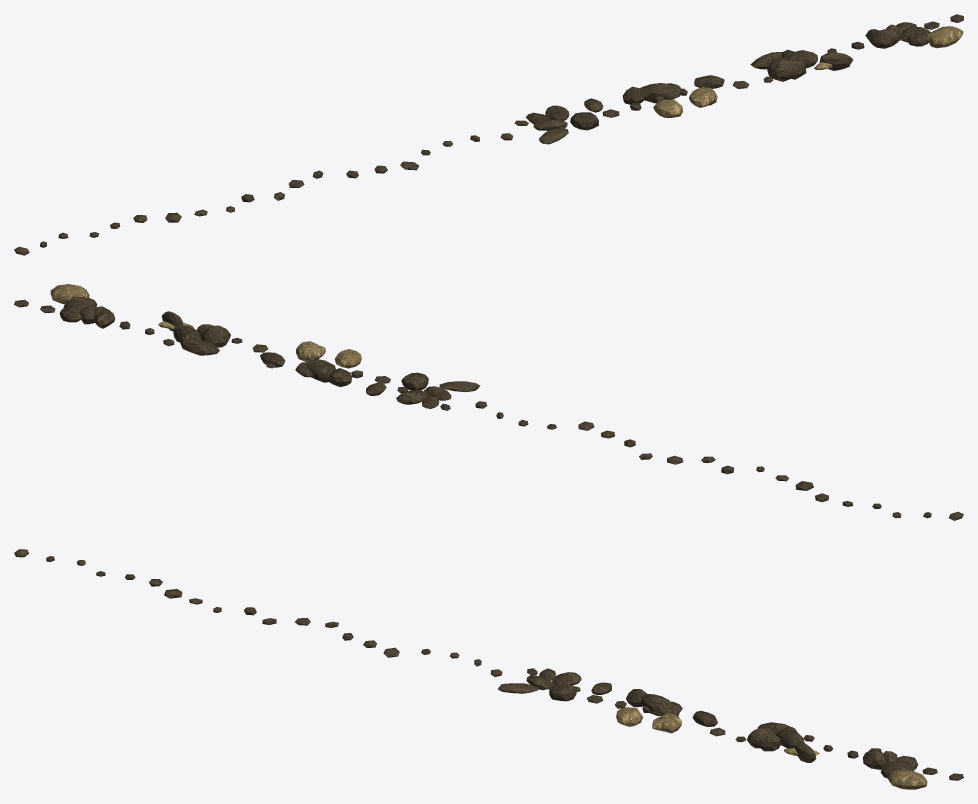
Rendered from south-west-shore.glb.
3 views of the same model, one above another, from view 1: azimuth 30°, elevation 25°; view 2: azimuth 150°, elevation 25°; view 3: azimuth 330°, elevation 25° (orthographic). The views are drawn at different scales.
Visible parts, largest first — view 1: south-west-shore; view 2: south-west-shore; view 3: south-west-shore.
Part boxes in pixels (x1=…): south-west-shore: x1=14, y1=14, x2=963, y2=255; south-west-shore: x1=14, y1=284, x2=963, y2=520; south-west-shore: x1=14, y1=549, x2=963, y2=789.
Size of the model in its own units: 57.91 by 1.11 by 4.11.
Materials: 1 (1 with a texture image).
